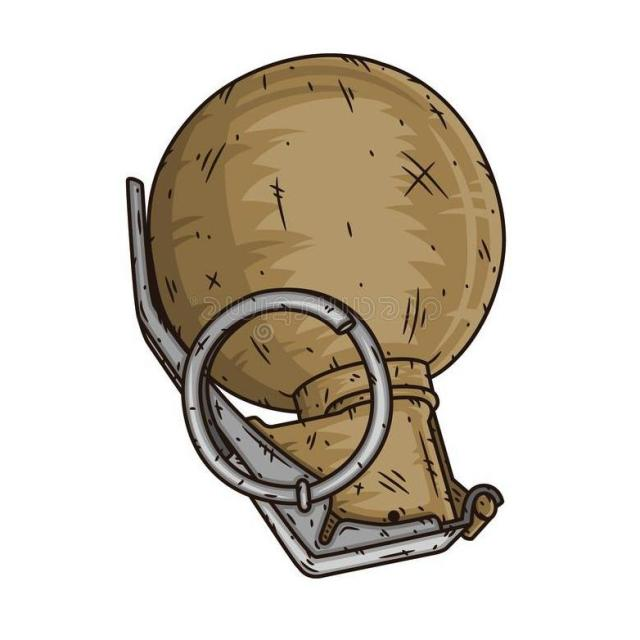grenade: (124, 52, 508, 580)
